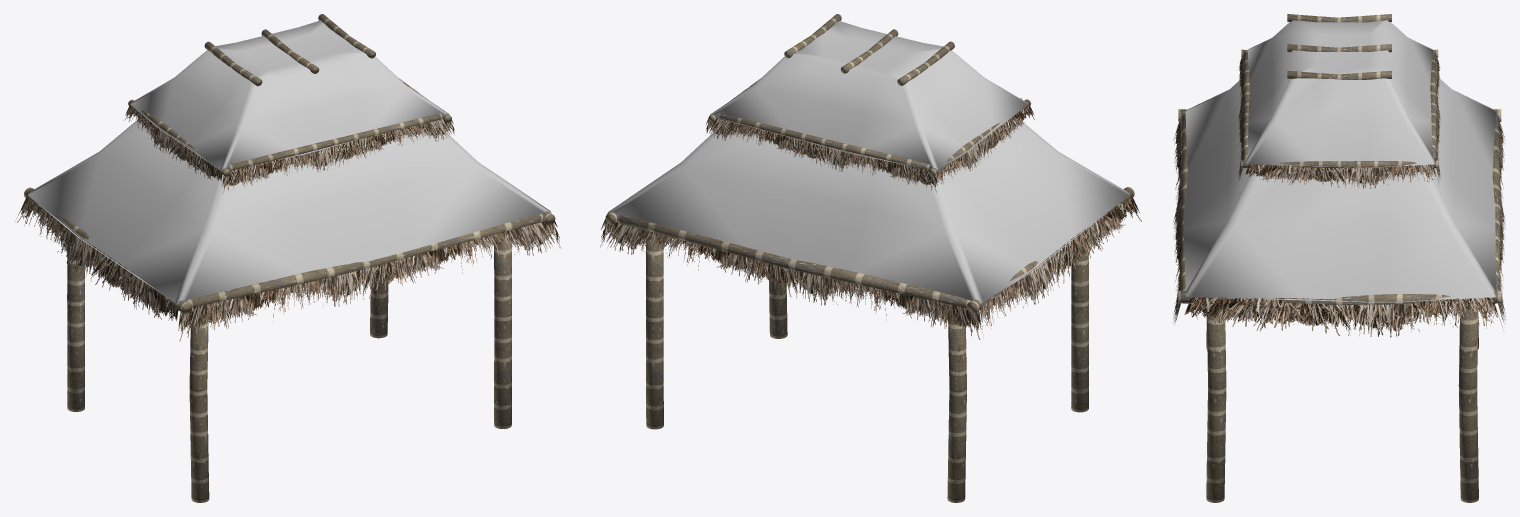
The model's file is hut1.fbx.
The picture shows the model from 3 angles, left to right: view 1: azimuth 30°, elevation 25°; view 2: azimuth 150°, elevation 25°; view 3: azimuth 270°, elevation 25°; orthographic projection. The views are drawn at different scales.
Visible parts, largest first — view 1: Mesh; view 2: Mesh; view 3: Mesh.
Part boxes in pixels (box(x1,y1,x2,y2)): Mesh: box(15, 14, 561, 502); Mesh: box(600, 14, 1141, 502); Mesh: box(1173, 14, 1505, 502).
Size of the model in its own units: 755 by 686 by 544.
